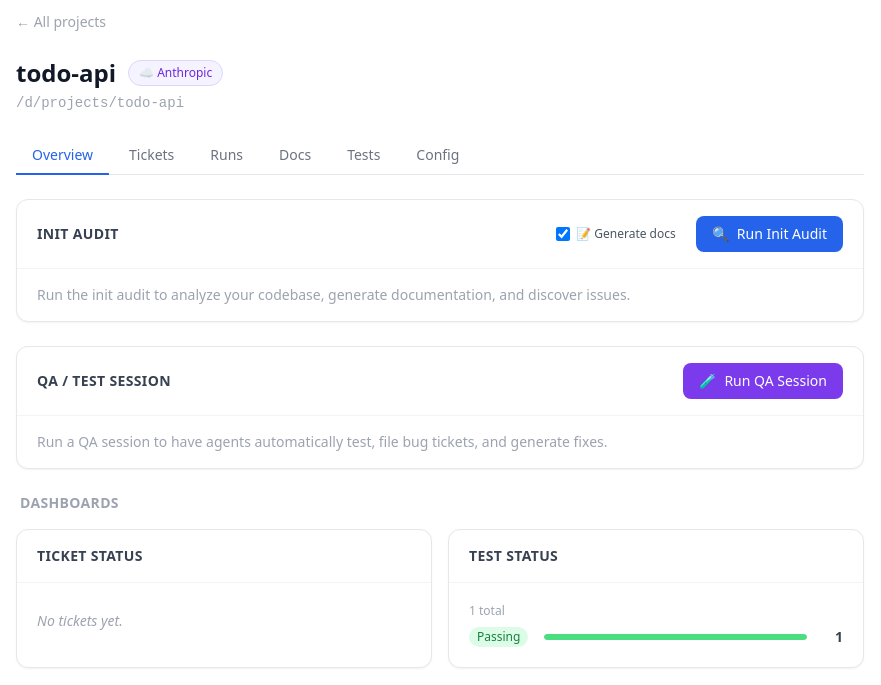
Test: ProjectDetailPage › shows test rows when Tests tab has data
This screenshot has width=881, height=685.
What coordinates should you click on to do the following:
click the button "Tests"
I would click on:
 (364, 156)
Its box is [331,137,396,175].
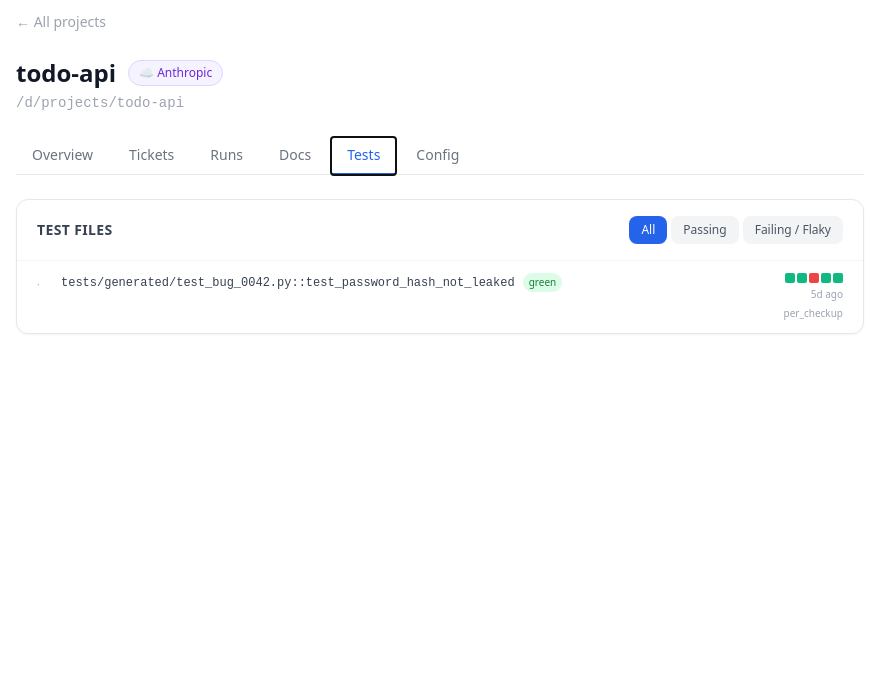
Result: the text "test_password_hash_not_leaked" is shown at [61,276,515,290]
Result: the text "per_checkup" is shown at [784,306,843,321]
